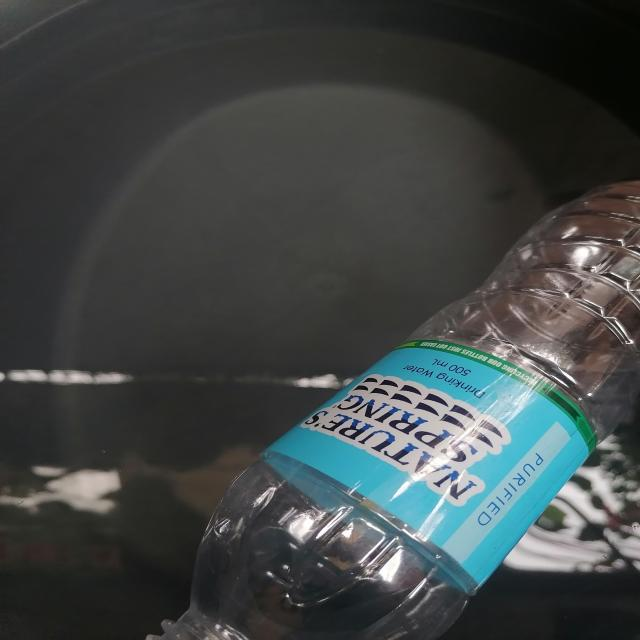Plastic Bottle: (128, 163, 640, 640)
